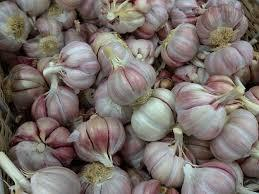garlic: (0, 1, 259, 194)
